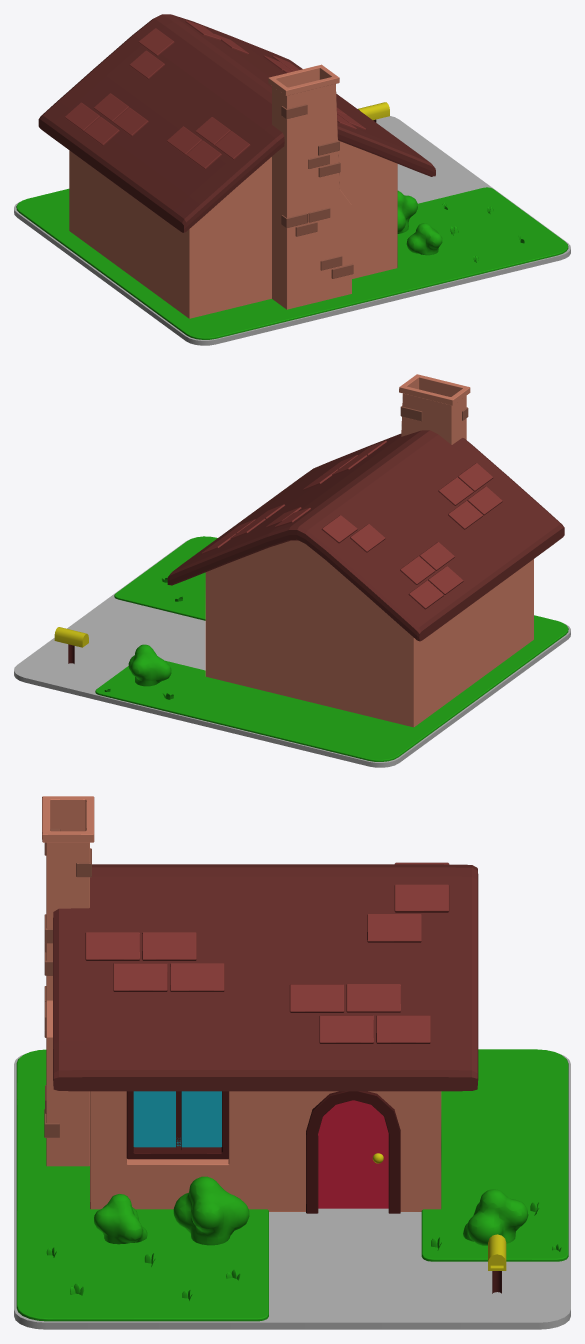
Rendered from house.obj.
3 views of the same model, one above another, from view 1: azimuth 30°, elevation 25°; view 2: azimuth 150°, elevation 25°; view 3: azimuth 270°, elevation 25° (orthographic). The views are drawn at different scales.
Visible parts, largest first — view 1: Object_29_0, Object_26_0, Object_45_0, Object_41_0, Object_43_0, Object_4_0, Object_108_0, Object_114_0, Object_106_0, Object_102_0, Object_112_0, Object_98_0 (+4 smaller); view 2: Object_26_0, Object_29_0, Object_45_0, Object_43_0, Object_41_0, Object_4_0, Object_108_0, Object_100_0, Object_106_0, Object_116_0, Object_112_0, Object_114_0 (+5 smaller); view 3: Object_29_0, Object_45_0, Object_43_0, Object_26_0, Object_41_0, Object_4_0, Object_33_0, Object_27_0, Object_31_0, Object_37_0, Object_108_0, Object_104_0 (+9 smaller).
Part boxes in pixels (box(x1,y1,x2,y2)): Object_29_0: box(38, 14, 435, 232); Object_26_0: box(69, 141, 397, 318); Object_45_0: box(16, 187, 568, 339); Object_41_0: box(268, 64, 351, 309); Object_43_0: box(14, 116, 570, 345); Object_4_0: box(397, 190, 442, 255); Object_108_0: box(138, 20, 220, 56); Object_114_0: box(129, 34, 248, 79); Object_106_0: box(94, 55, 293, 121); Object_102_0: box(186, 111, 365, 169); Object_112_0: box(65, 55, 299, 131); Object_98_0: box(215, 114, 356, 159); Object_26_0: box(205, 540, 533, 727); Object_29_0: box(167, 430, 564, 641); Object_45_0: box(95, 536, 568, 761); Object_43_0: box(14, 539, 570, 767); Object_41_0: box(399, 374, 470, 444); Object_4_0: box(128, 644, 171, 686); Object_108_0: box(275, 507, 357, 543); Object_100_0: box(332, 455, 473, 505); Object_106_0: box(230, 518, 435, 584); Object_116_0: box(303, 469, 483, 529); Object_112_0: box(201, 533, 443, 609); Object_114_0: box(266, 507, 385, 552); Object_29_0: box(53, 864, 478, 1091); Object_45_0: box(16, 1049, 568, 1321); Object_43_0: box(14, 1054, 570, 1329); Object_26_0: box(90, 1091, 441, 1211); Object_41_0: box(42, 796, 94, 1166); Object_4_0: box(94, 1176, 528, 1245); Object_33_0: box(318, 1100, 388, 1208); Object_27_0: box(133, 1091, 221, 1147); Object_31_0: box(306, 1091, 400, 1213); Object_37_0: box(126, 1091, 228, 1159); Object_108_0: box(394, 862, 449, 912); Object_104_0: box(289, 984, 344, 1012).
Size of the model in its own units: 12.31 by 7.17 by 10.65.
10 materials, 10 textured.
